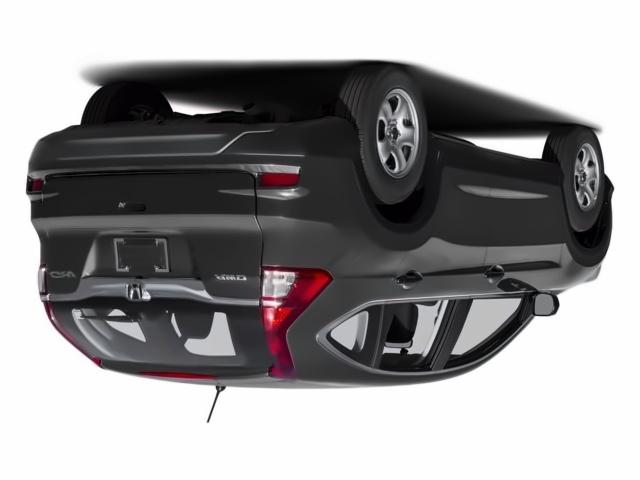Car boot: (29, 170, 278, 381)
Passenger-s door - -F-L-: (426, 122, 559, 383)
Passenger-s door - -R-L-: (357, 118, 497, 391)
Rear bumper: (21, 117, 362, 186)
Rear light - -L-: (257, 265, 334, 381)
Side bumper - -L-: (415, 124, 561, 220)
Side mirror - -L-: (526, 287, 559, 318)
